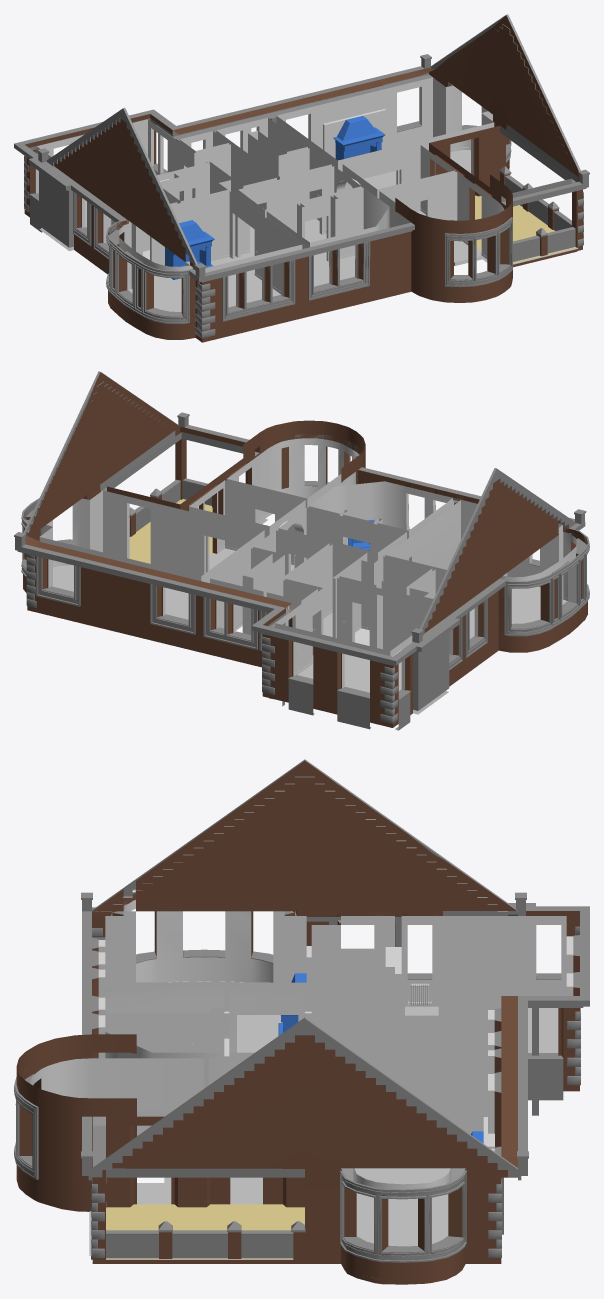
Rendered from Manor_Structure_F1.fbx.
The picture shows the model from 3 angles, top to bottom: view 1: azimuth 30°, elevation 25°; view 2: azimuth 150°, elevation 25°; view 3: azimuth 270°, elevation 25°; orthographic projection. The views are drawn at different scales.
Visible parts, largest first — view 1: Bricks_Walls_F1, Walls_F1, Frames_Ashlar_Plaster_Walls_F1, Floor_P1, Fireplaces_P1, Thresholds_F1, Floor_P1_Terrace, Bath_F1; view 2: Walls_F1, Bricks_Walls_F1, Frames_Ashlar_Plaster_Walls_F1, Floor_P1, Thresholds_F1, Bath_F1, Floor_P1_Terrace; view 3: Bricks_Walls_F1, Walls_F1, Frames_Ashlar_Plaster_Walls_F1, Floor_P1, Floor_P1_Terrace, Thresholds_F1, Bath_F1.
Part boxes in pixels (bbox=[...]): Bricks_Walls_F1: bbox=[24, 15, 582, 342]; Walls_F1: bbox=[35, 77, 504, 307]; Frames_Ashlar_Plaster_Walls_F1: bbox=[14, 14, 589, 338]; Floor_P1: bbox=[85, 150, 578, 311]; Fireplaces_P1: bbox=[165, 116, 385, 279]; Thresholds_F1: bbox=[29, 121, 575, 316]; Floor_P1_Terrace: bbox=[475, 195, 576, 263]; Bath_F1: bbox=[103, 184, 218, 259]; Walls_F1: bbox=[39, 438, 576, 690]; Bricks_Walls_F1: bbox=[23, 372, 587, 727]; Frames_Ashlar_Plaster_Walls_F1: bbox=[14, 371, 589, 730]; Floor_P1: bbox=[53, 548, 567, 692]; Thresholds_F1: bbox=[22, 478, 588, 699]; Bath_F1: bbox=[355, 577, 477, 650]; Floor_P1_Terrace: bbox=[129, 499, 212, 563]; Bricks_Walls_F1: bbox=[16, 761, 579, 1284]; Walls_F1: bbox=[30, 900, 573, 1189]; Frames_Ashlar_Plaster_Walls_F1: bbox=[14, 759, 589, 1262]; Floor_P1: bbox=[89, 1006, 558, 1259]; Floor_P1_Terrace: bbox=[106, 1204, 304, 1258]; Thresholds_F1: bbox=[15, 949, 566, 1252]; Bath_F1: bbox=[311, 943, 385, 990].
Bounding box in the file's own units: 21.56 × 9.06 × 17.27.
